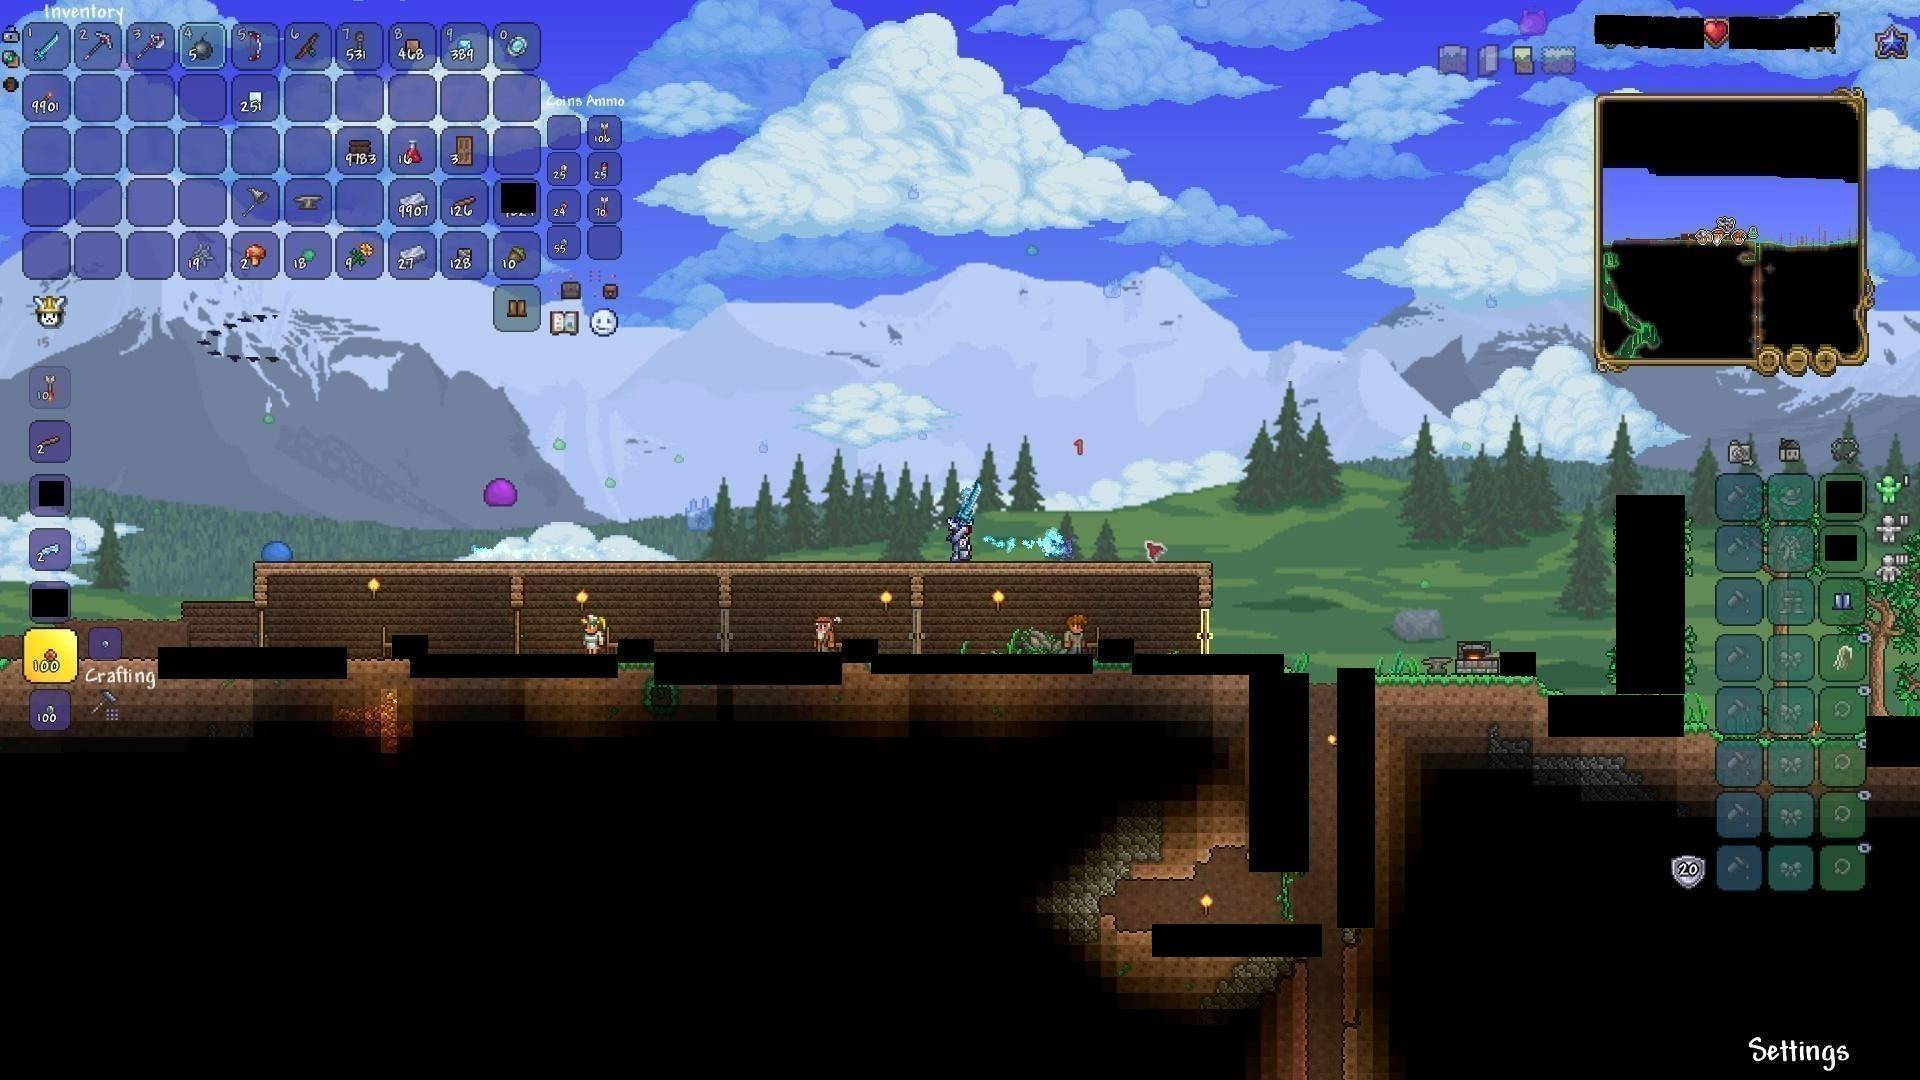dirt: (1375, 674, 1543, 715)
heart: (1702, 18, 1731, 49)
legs: (1829, 585, 1854, 615), (508, 291, 533, 320)
slime: (475, 469, 525, 509), (256, 535, 299, 568)
tree: (1863, 566, 1909, 716)
